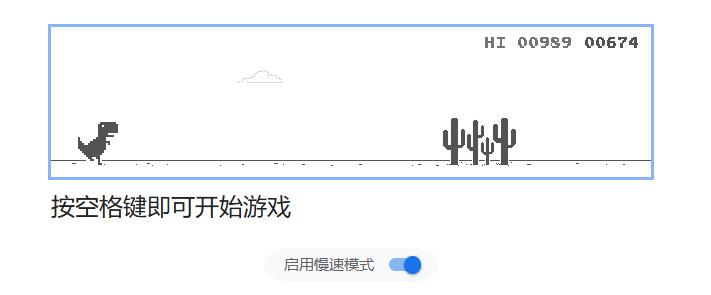cactus: (443, 117, 516, 166)
dino: (75, 120, 119, 166)
